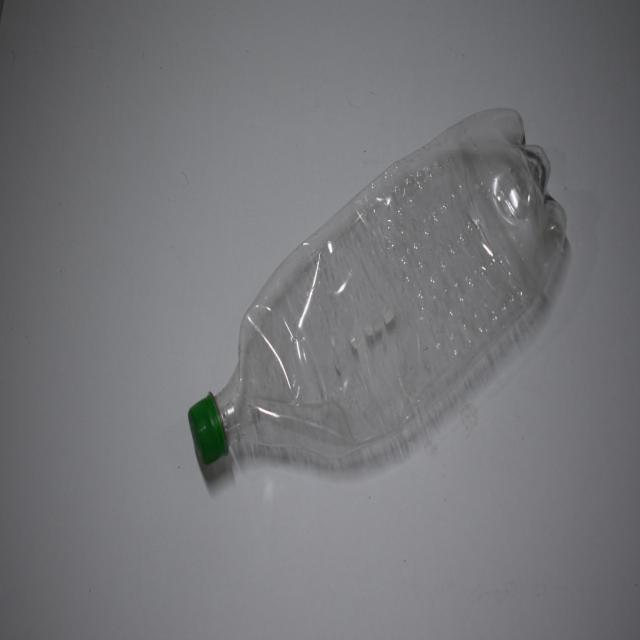bottle: (209, 87, 562, 510)
